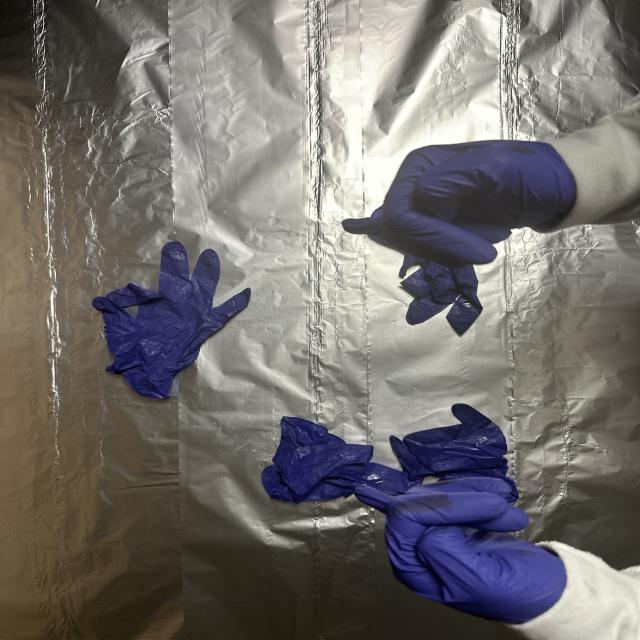gloves_contaminated: (358, 478, 566, 623), (344, 141, 576, 266)
